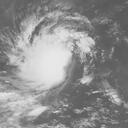cyclone: (2, 6, 97, 120)
